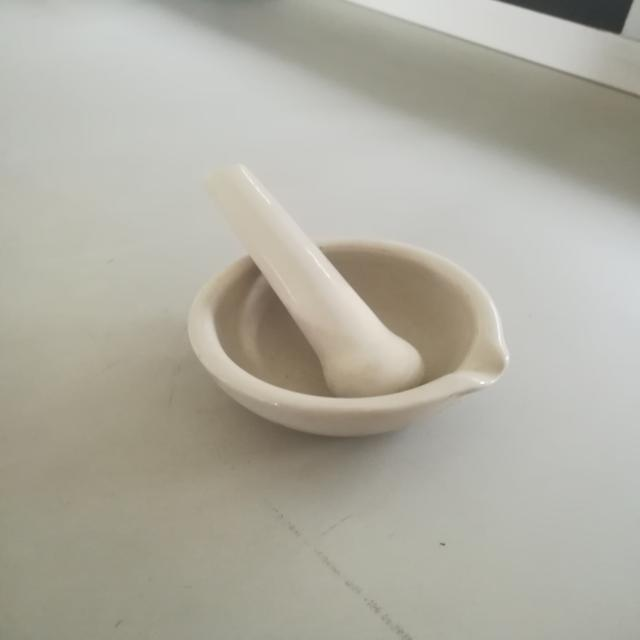Porcelain_Mortar Pestle: (144, 105, 556, 473)
